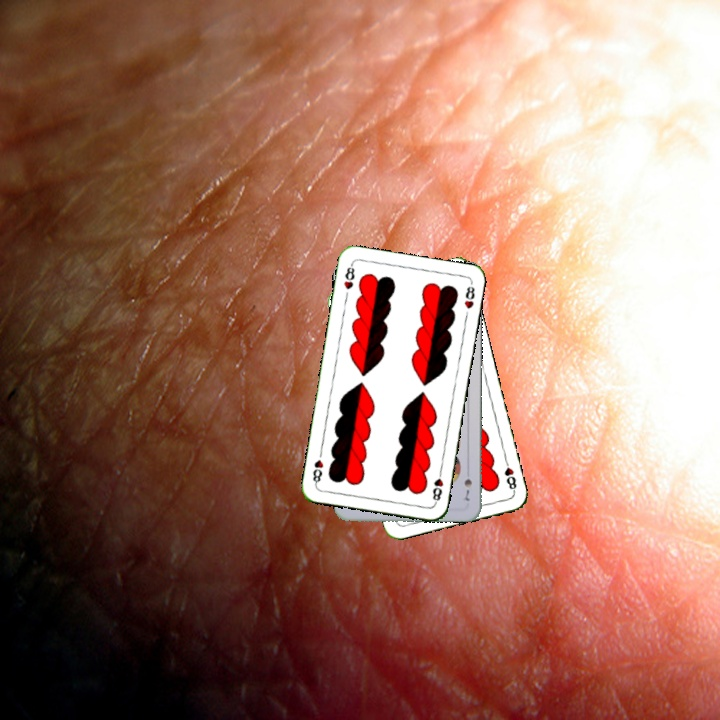H8: (500, 455, 519, 495), (429, 465, 446, 506), (340, 260, 357, 292)
S7: (460, 475, 474, 503)
